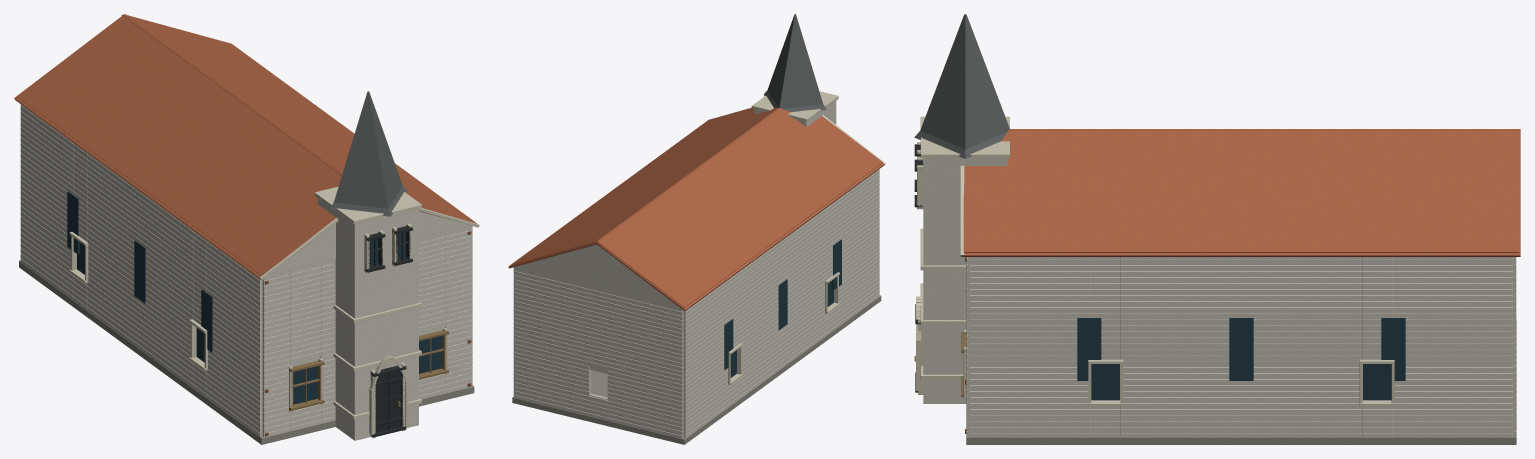
The model's file is CHURCH2_lod0.glb.
3 renders of one model, left to right at view 1: azimuth 30°, elevation 25°; view 2: azimuth 150°, elevation 25°; view 3: azimuth 270°, elevation 25°, orthographic. The views are drawn at different scales.
Visible parts, largest first — view 1: CHURCH2_LOD0; view 2: CHURCH2_LOD0; view 3: CHURCH2_LOD0.
Boxes of the visible parts, <box> form: CHURCH2_LOD0: <box>14,14,479,444</box>; CHURCH2_LOD0: <box>508,14,885,444</box>; CHURCH2_LOD0: <box>914,14,1520,444</box>.
Bounding box in the file's own units: 9.51 × 13.6 × 20.11.
Materials: 13 (10 with a texture image).
